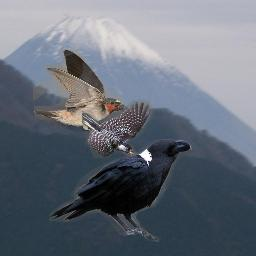Crow: (49, 139, 193, 243)
Swallow: (33, 49, 125, 133)
Woodpecker: (82, 99, 154, 160)
